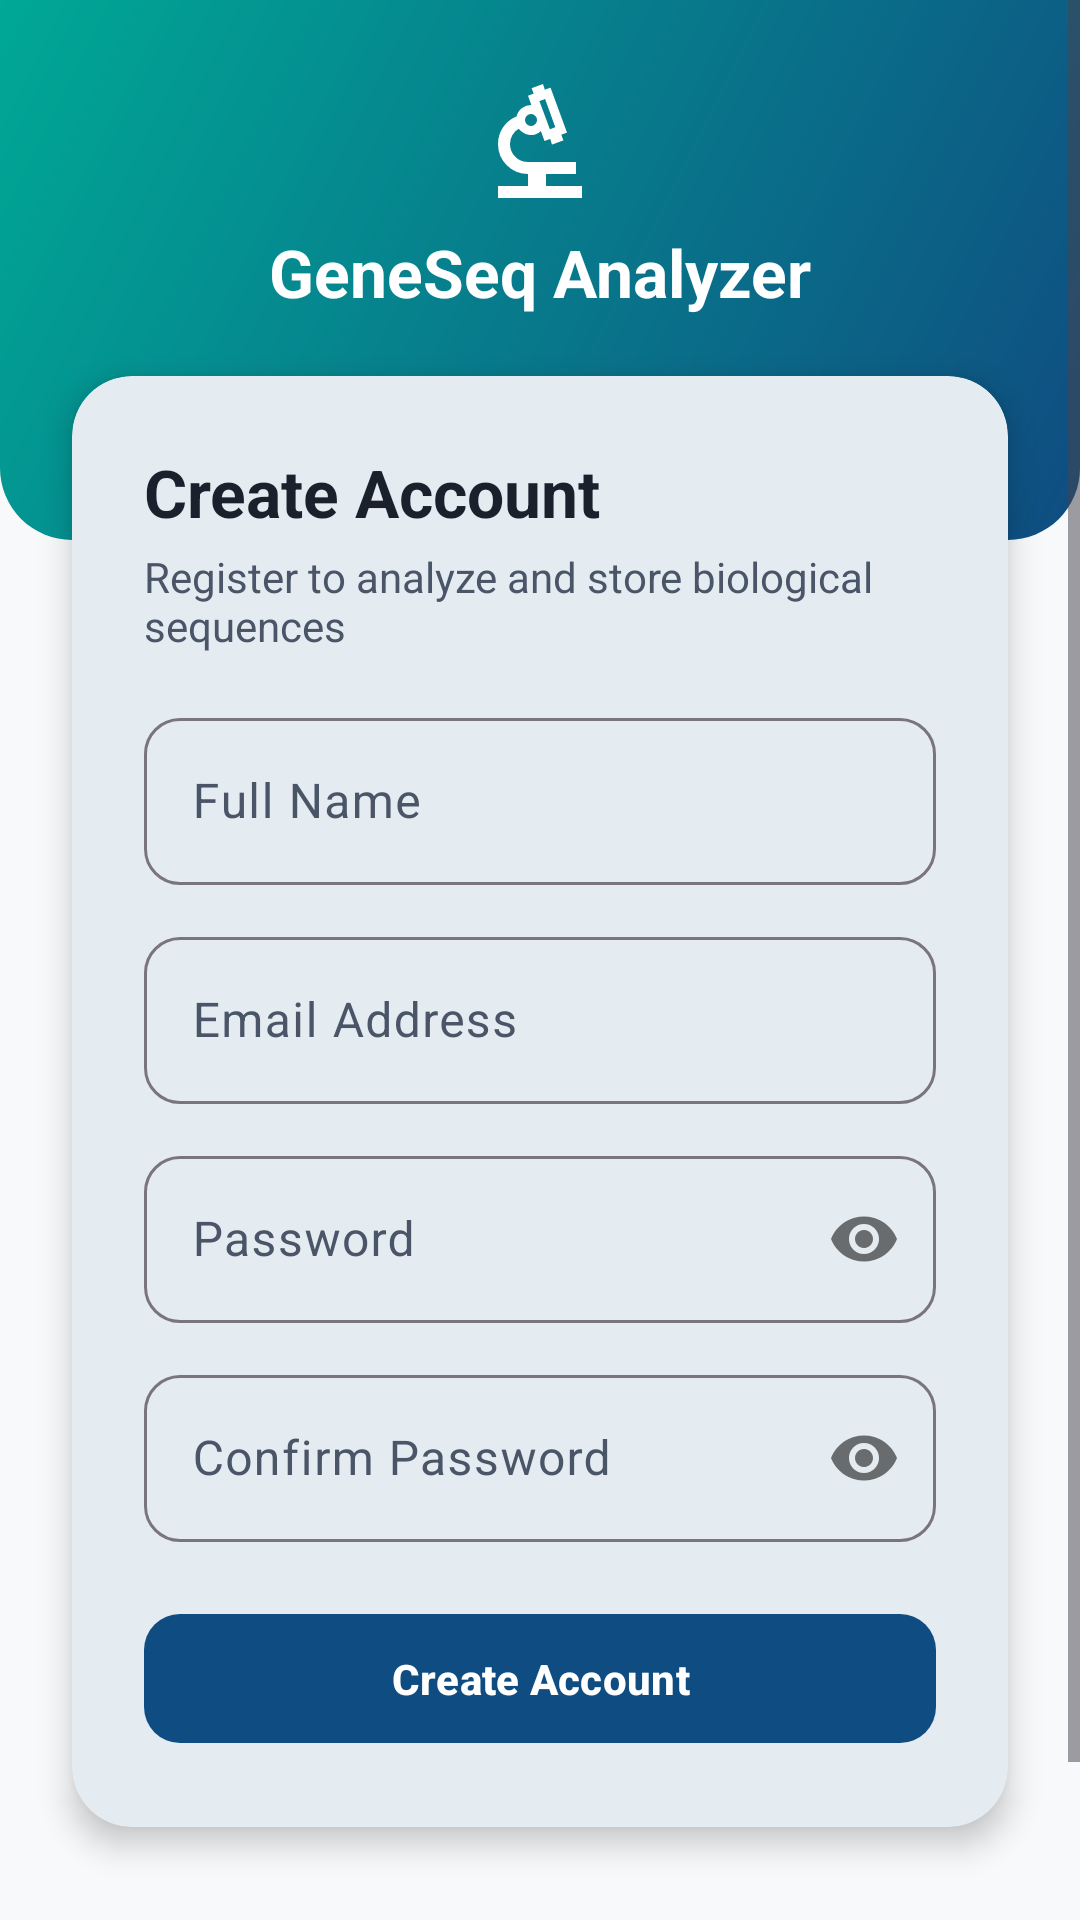

Named icons in this screenshot (1080*1920) and their bounding boxes, (x1, y1, x2, y2):
biotech: (498, 84, 582, 198)
